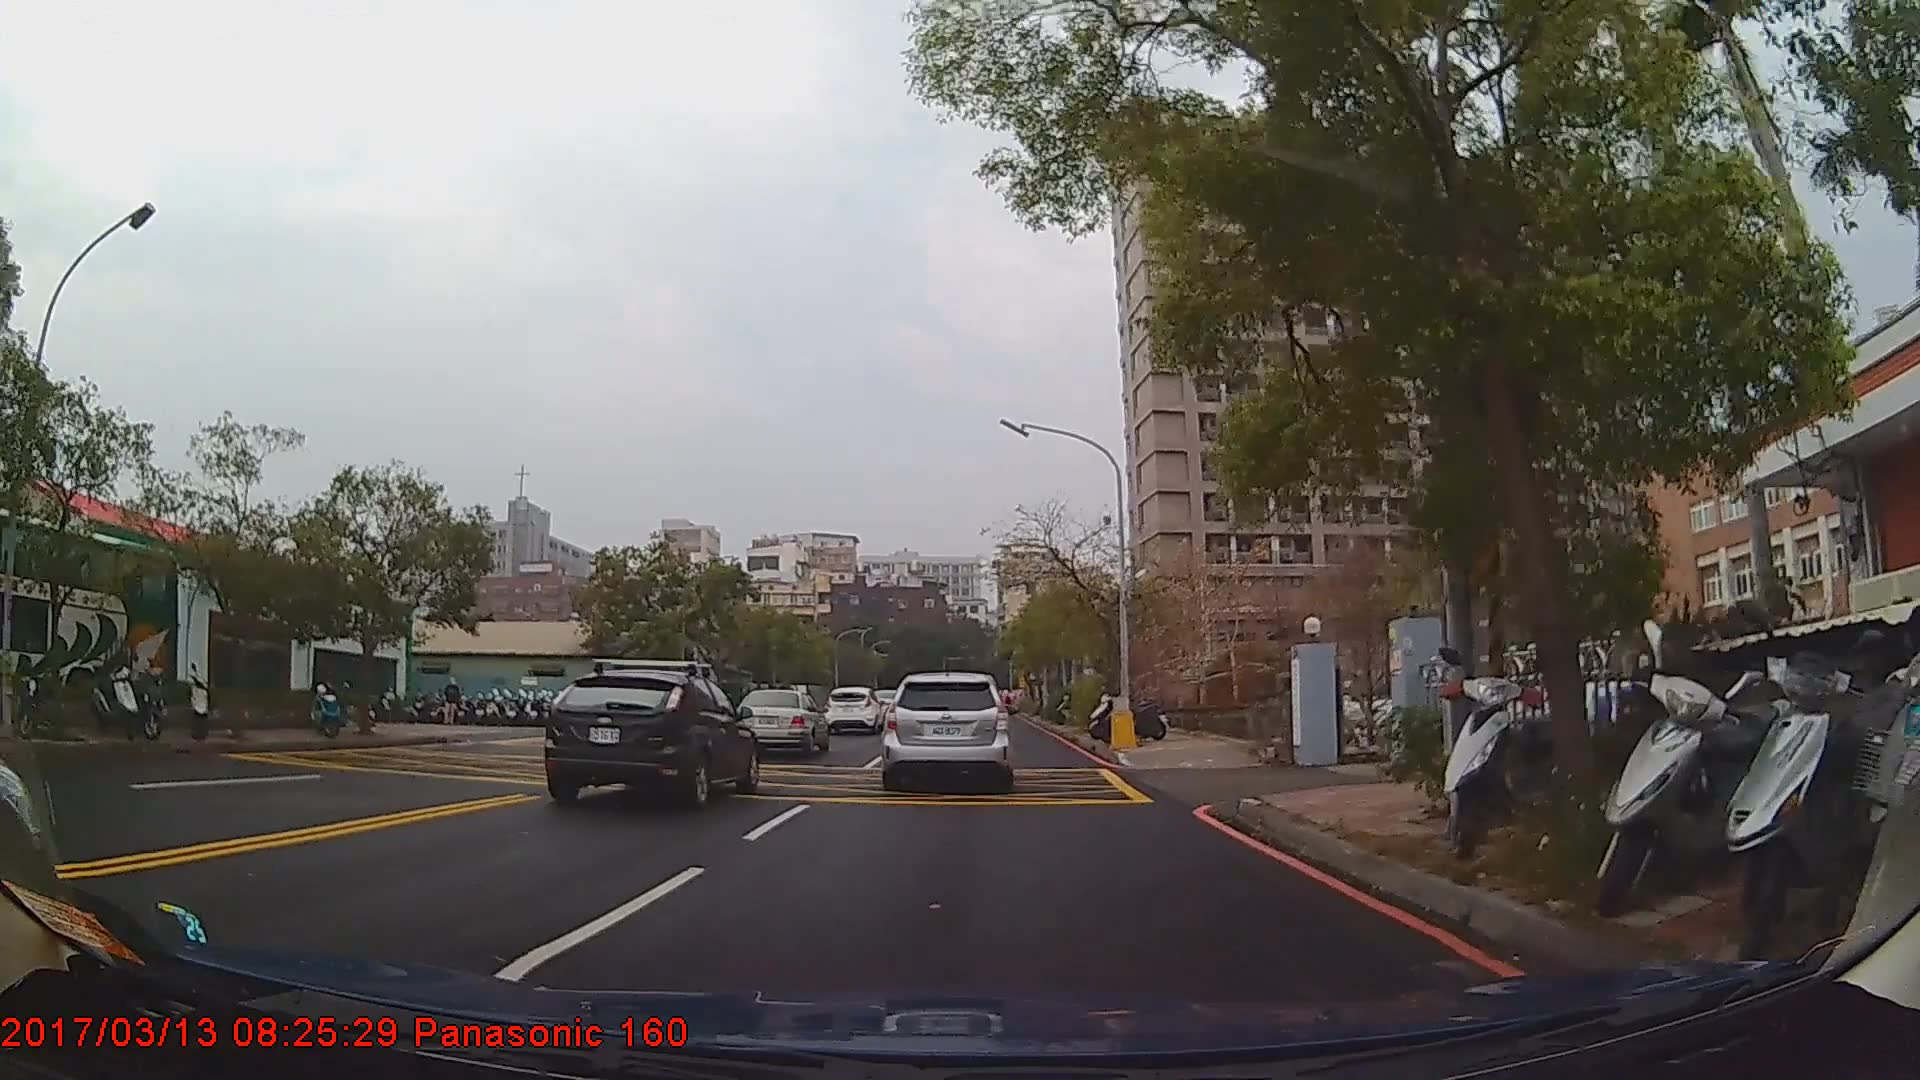pedestrian: (443, 680, 463, 727)
vehicle: (0, 503, 181, 728), (542, 668, 758, 809), (884, 671, 1009, 786), (732, 687, 825, 756), (823, 686, 884, 736)
